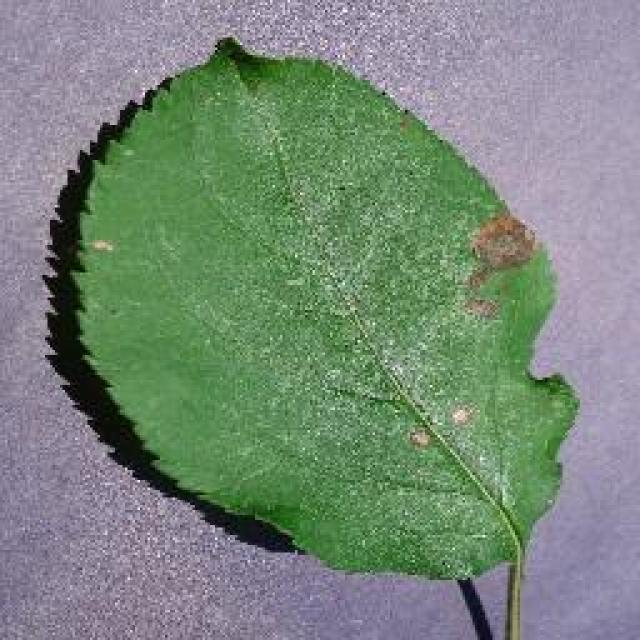Black_rot: (40, 32, 580, 592)
